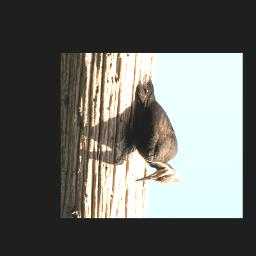Woodpecker: (115, 74, 182, 184)
